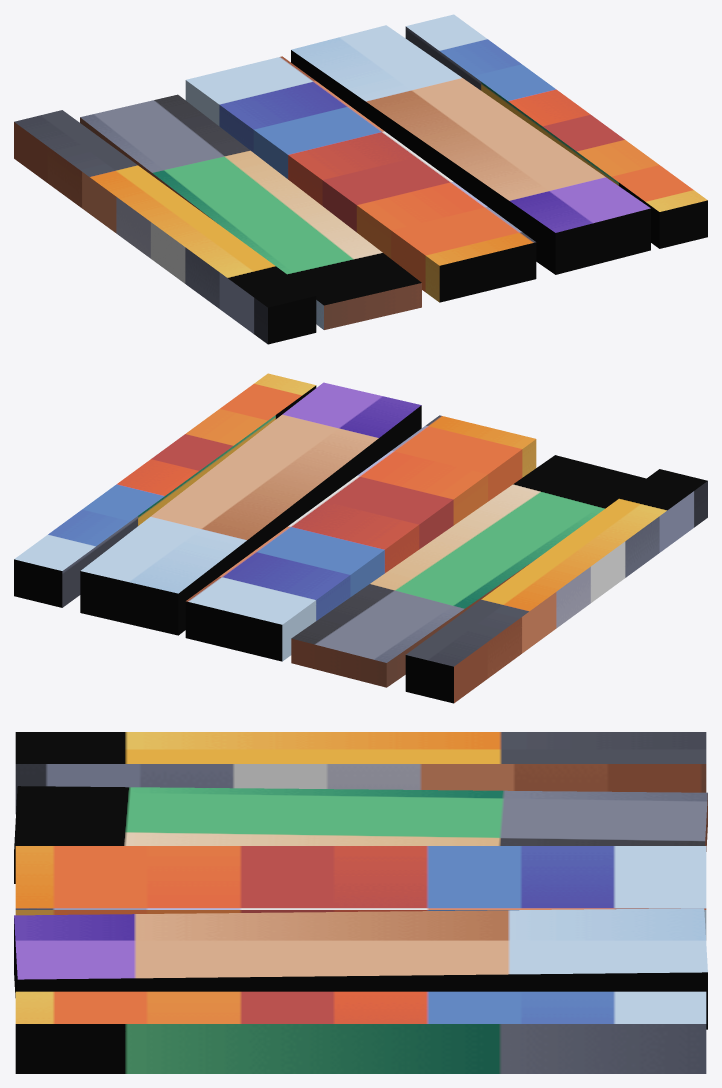
The model's file is SM_Ponton_A.fbx.
The picture shows the model from 3 angles, top to bottom: view 1: azimuth 30°, elevation 25°; view 2: azimuth 150°, elevation 25°; view 3: azimuth 270°, elevation 25°; orthographic projection. The views are drawn at different scales.
Parts seen in each view (by area): view 1: SM_Ponton_A; view 2: SM_Ponton_A; view 3: SM_Ponton_A.
Boxes of the visible parts, left/top/right/bottom form: SM_Ponton_A: left=14, top=14, right=707, bottom=344; SM_Ponton_A: left=14, top=373, right=707, bottom=703; SM_Ponton_A: left=14, top=732, right=707, bottom=1073.
Bounding box in the file's own units: 31.54 × 2.88 × 31.7.
